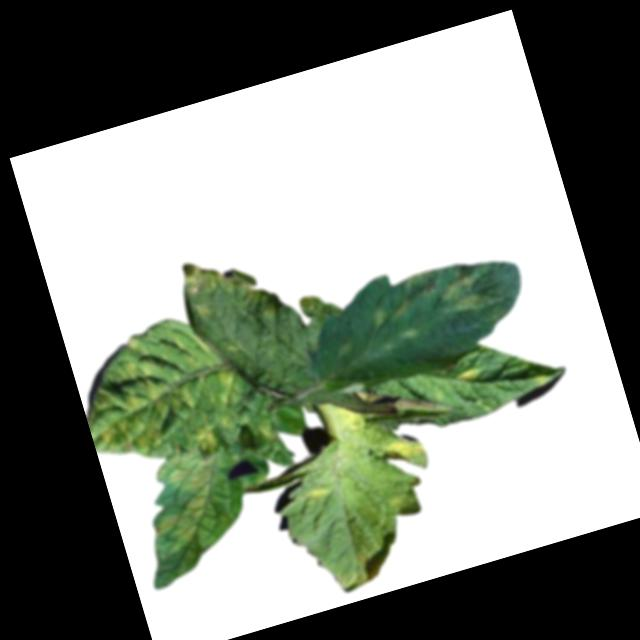Leaf_Mold: (67, 305, 248, 463), (120, 445, 251, 591), (175, 239, 284, 333), (400, 250, 505, 328), (327, 550, 382, 594), (376, 432, 428, 473), (365, 297, 410, 331), (189, 422, 222, 459), (452, 365, 484, 390), (306, 484, 334, 505)
